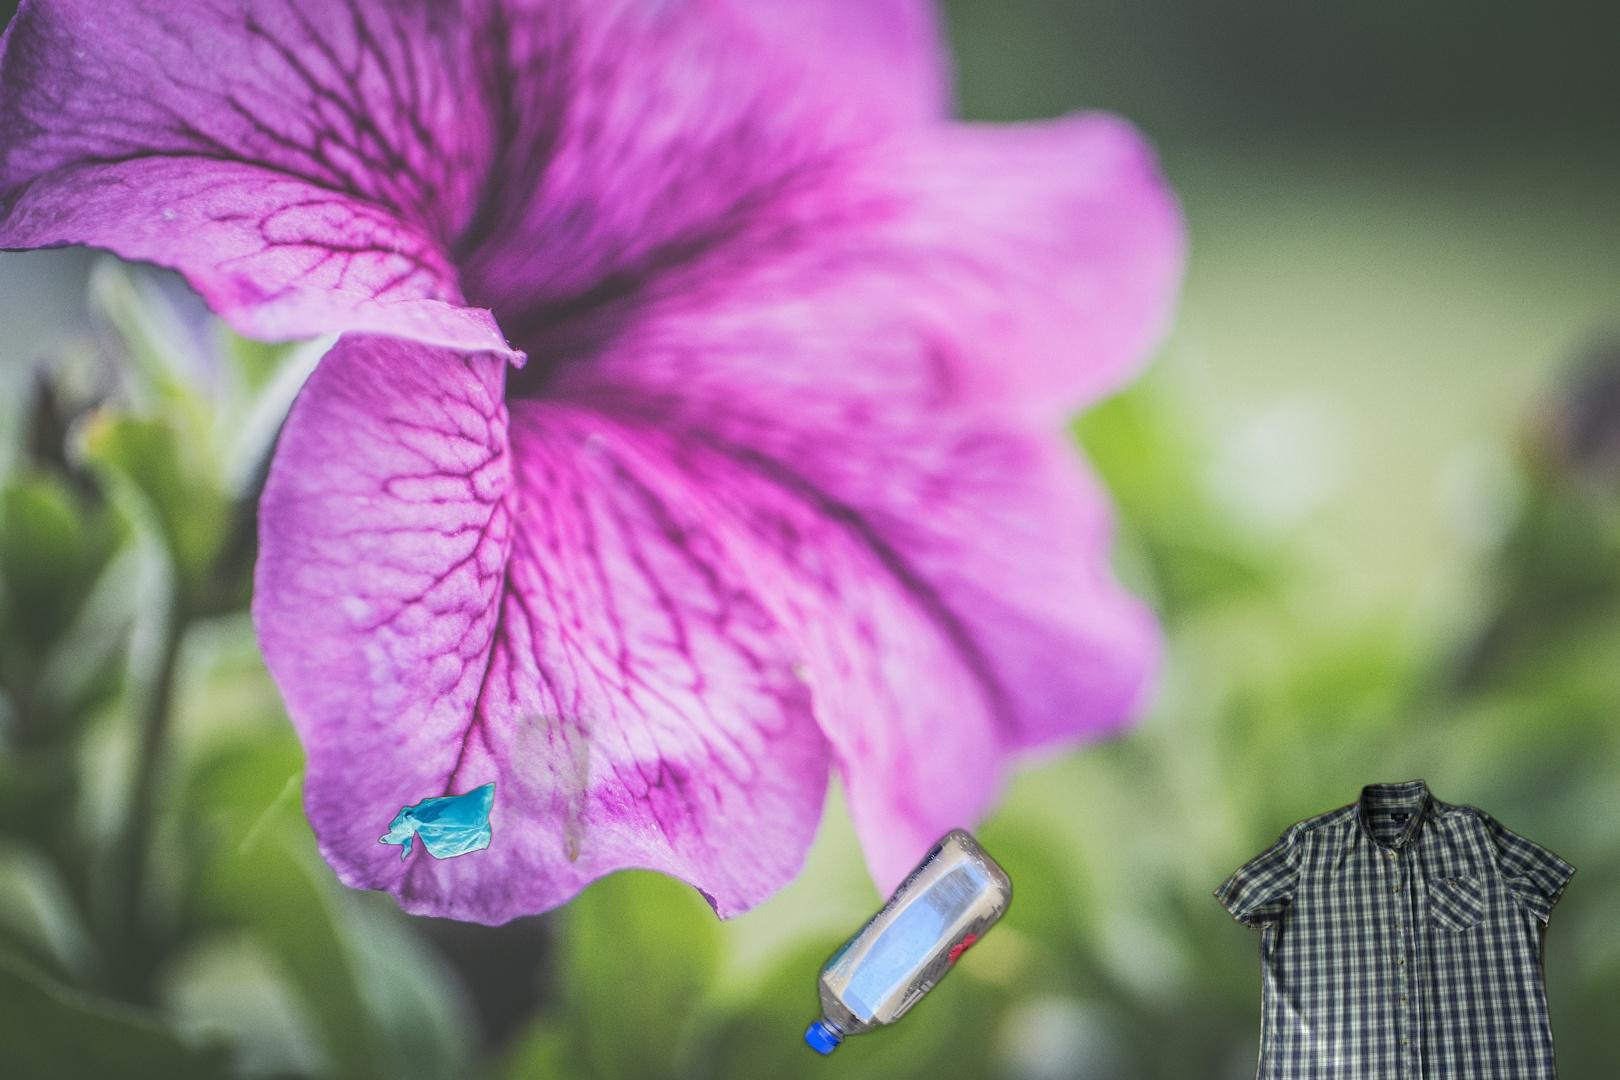clothes: (1209, 776, 1581, 1080)
plastic-bag: (312, 574, 612, 874)
plastic-bottles: (797, 782, 1119, 1080)
